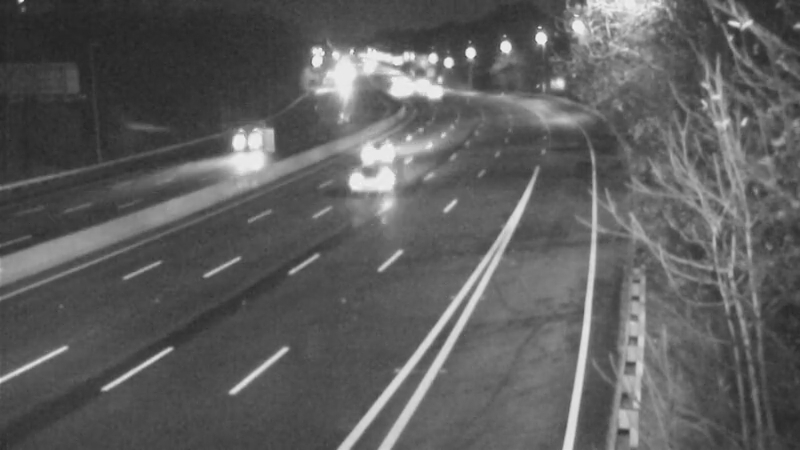vehicle: (342, 145, 422, 225), (354, 121, 404, 171), (219, 122, 269, 172)
